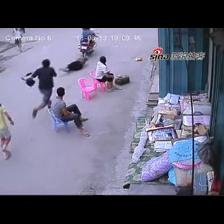person: (52, 87, 89, 136), (31, 59, 56, 118), (96, 56, 121, 90), (0, 104, 13, 159), (60, 58, 88, 72), (80, 28, 97, 49), (13, 28, 22, 51)
